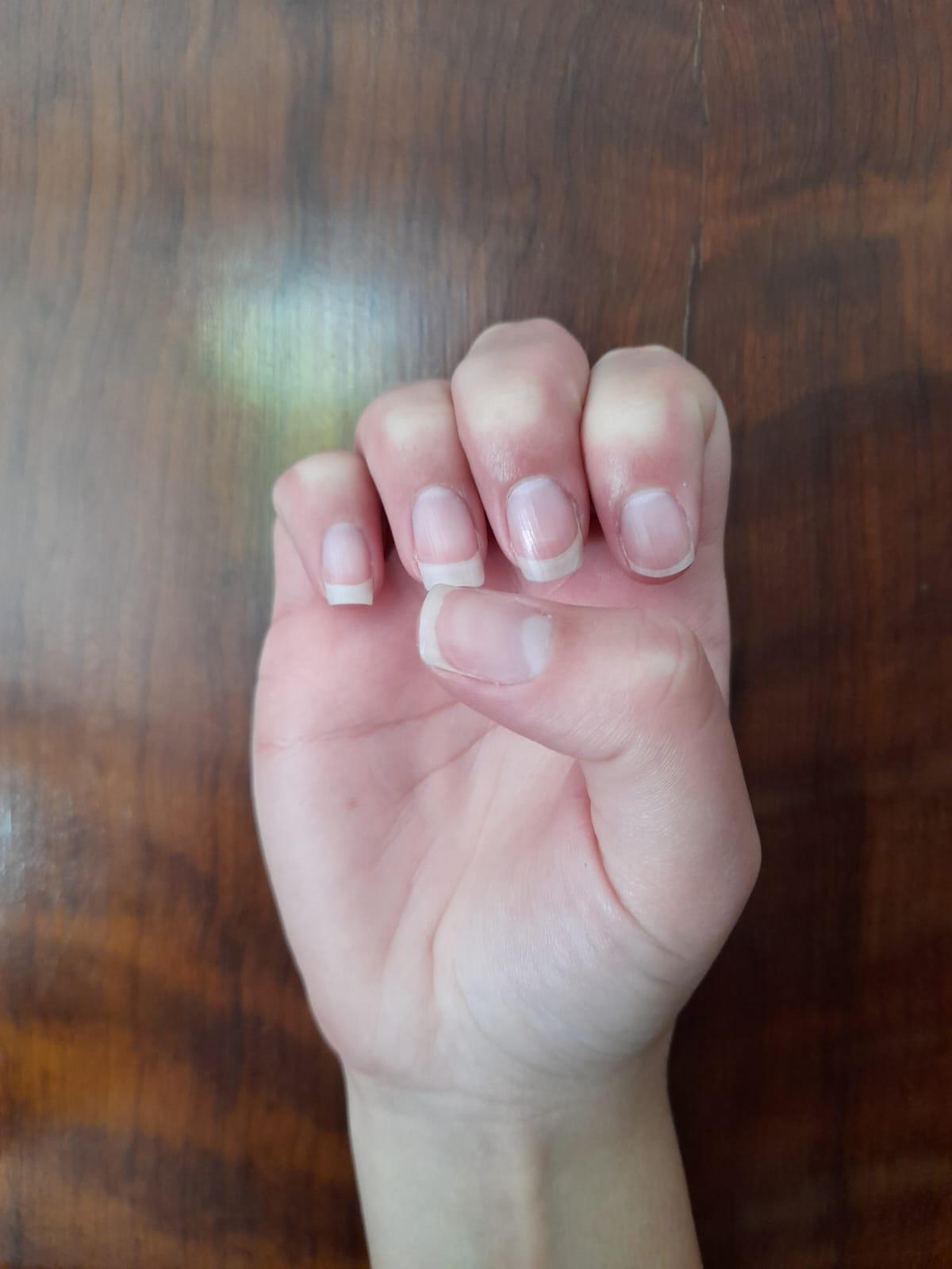E: (206, 309, 817, 1098)
